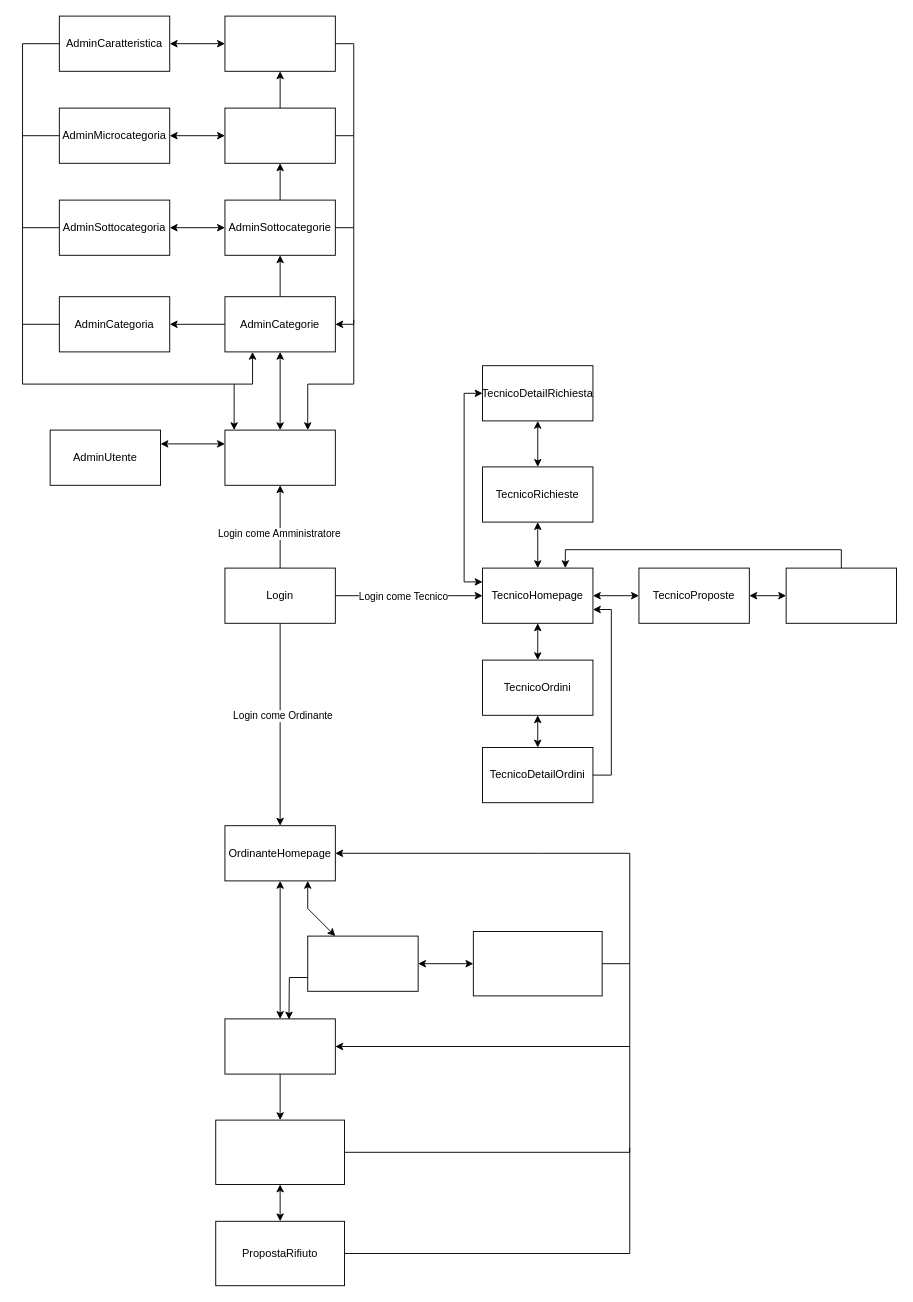
Image size: 913x1302. Some labels were removed from this diagram. Each missing label, with the box of its shape:
AdminCaratteristiche: (224, 15, 335, 71)
AdminHomepage: (224, 429, 335, 485)
AdminMicrocategorie: (224, 107, 335, 163)
OrdinantePropostaDetail: (215, 1119, 345, 1184)
OrdinanteProposte: (224, 1018, 335, 1074)
OrdinanteRichiestaDetail: (472, 931, 602, 996)
OrdinanteStorico: (307, 935, 418, 991)
TecnicoDetailProposta: (785, 567, 897, 623)
